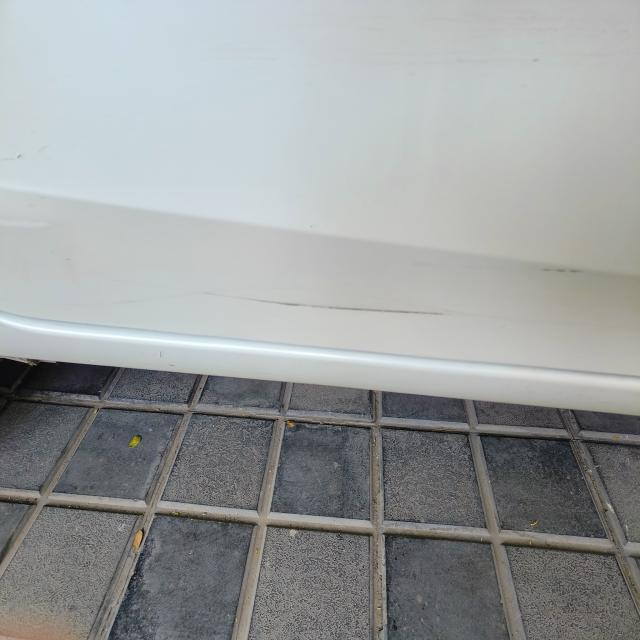scratch: (227, 294, 464, 320), (535, 262, 584, 284)
